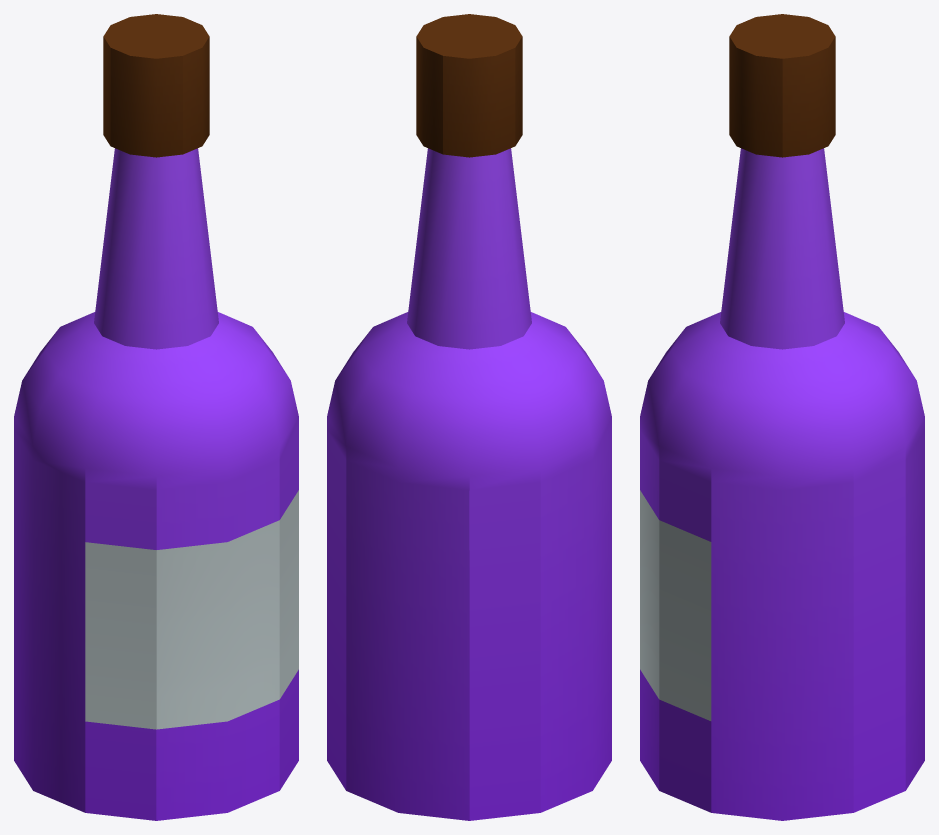
The model's file is botella.fbx.
3 renders of one model, left to right at view 1: azimuth 30°, elevation 25°; view 2: azimuth 150°, elevation 25°; view 3: azimuth 270°, elevation 25°, orthographic.
Visible parts, largest first — view 1: botella; view 2: botella; view 3: botella.
Boxes of the visible parts, x1,y1,x2,y2 form: botella: (14,14,298,820); botella: (327,14,611,820); botella: (640,14,924,820).
Size of the model in its own units: 25.41 by 71.31 by 25.41.
